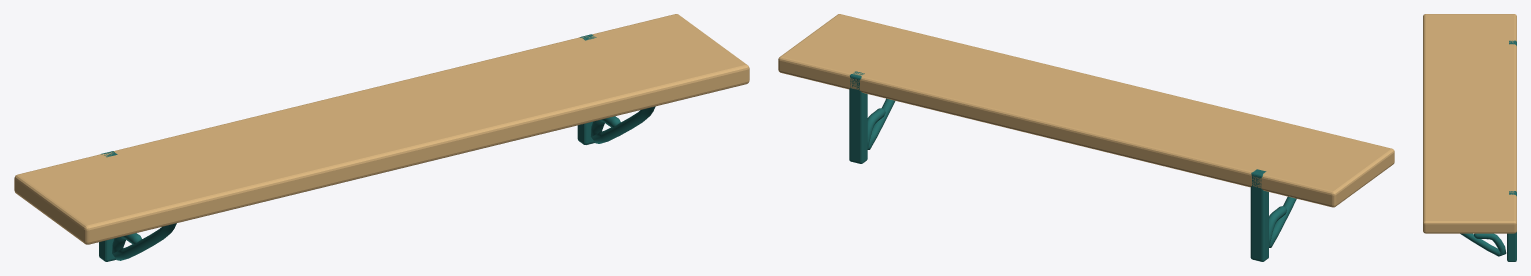
File: shelf_200.glb
3 views of the same model, side by side, from view 1: azimuth 30°, elevation 25°; view 2: azimuth 150°, elevation 25°; view 3: azimuth 270°, elevation 25° (orthographic). The views are drawn at different scales.
Parts seen in each view (by area): view 1: Walnut_plate, Curved_scroll, Curved_scroll.001; view 2: Walnut_plate, Wall_rail, Wall_rail.001, Curved_scroll.001, Curved_scroll; view 3: Walnut_plate, Curved_scroll.001, Wall_rail.001.
Boxes of the visible parts, x1=… form: Walnut_plate: x1=14, y1=14, x2=749, y2=244; Curved_scroll: x1=111, y1=223, x2=176, y2=260; Curved_scroll.001: x1=590, y1=106, x2=655, y2=143; Walnut_plate: x1=778, y1=14, x2=1394, y2=207; Wall_rail: x1=1250, y1=169, x2=1268, y2=261; Wall_rail.001: x1=849, y1=71, x2=867, y2=163; Curved_scroll.001: x1=867, y1=98, x2=895, y2=149; Curved_scroll: x1=1269, y1=196, x2=1296, y2=247; Walnut_plate: x1=1423, y1=14, x2=1516, y2=233; Curved_scroll.001: x1=1460, y1=233, x2=1506, y2=256; Wall_rail.001: x1=1507, y1=191, x2=1516, y2=261.
Size of the model in its own units: 2 by 0.3 by 0.38.
